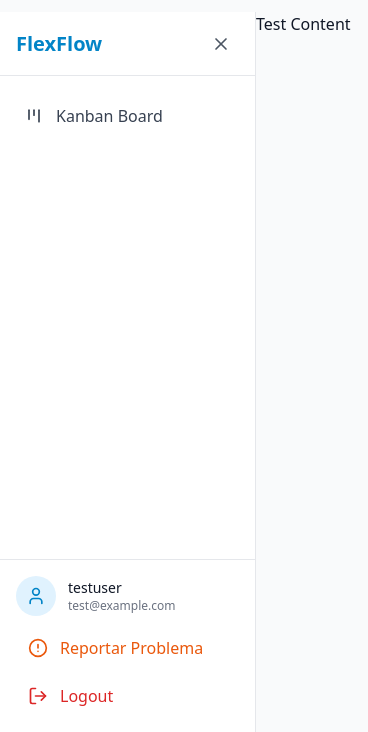
Layout › toggles sidebar when menu button is clicked
The image size is (368, 732).
Check: the text "Kanban Board" is shown, box [56,105,163,127]
// Click to close
Click the button named "close sidebar": (221, 44) [203,26,239,62]
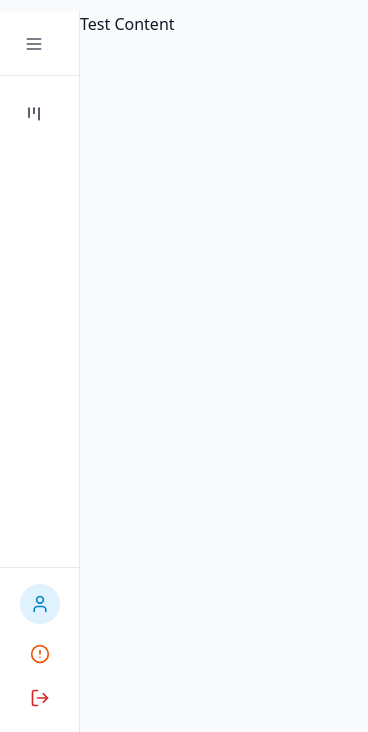
Check: the button named "open sidebar" is shown, box [16,26,52,62]
